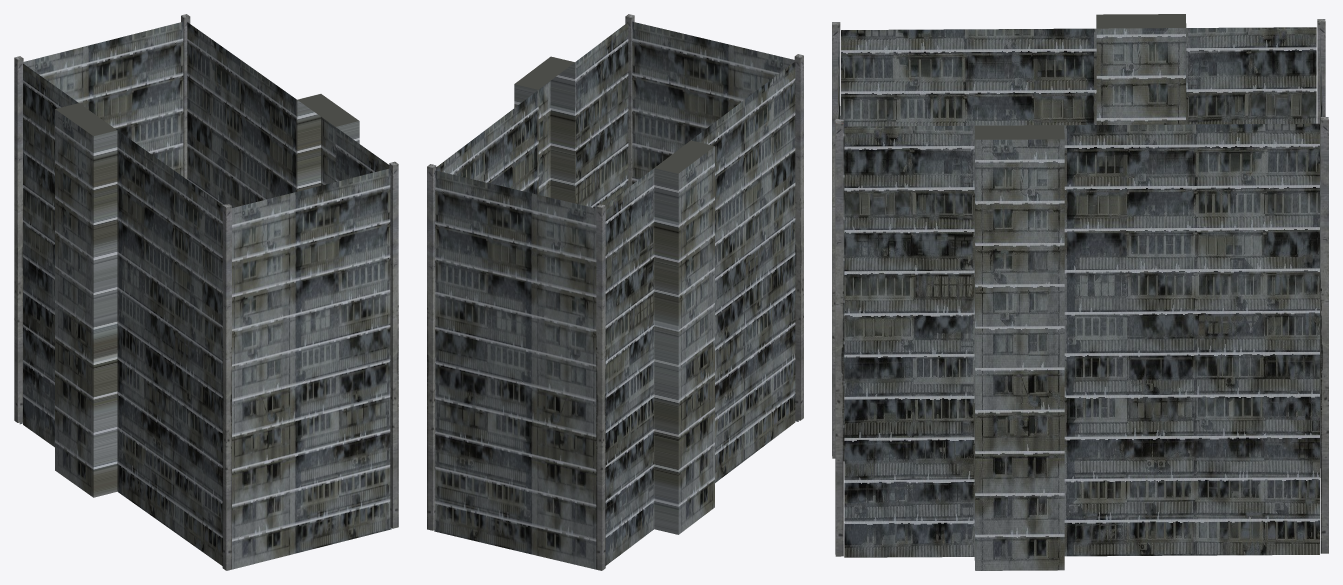
The model's file is tower_b.glb.
3 renders of one model, left to right at view 1: azimuth 30°, elevation 25°; view 2: azimuth 150°, elevation 25°; view 3: azimuth 270°, elevation 25°, orthographic. The views are drawn at different scales.
Visible parts, largest first — view 1: prop; view 2: prop; view 3: prop.
Part boxes in pixels (x1=…): prop: x1=14, y1=14, x2=398, y2=570; prop: x1=427, y1=14, x2=803, y2=570; prop: x1=832, y1=14, x2=1328, y2=570.
Bounding box in the file's own units: 5.02 × 8.13 × 8.38.
2 materials, 2 textured.
